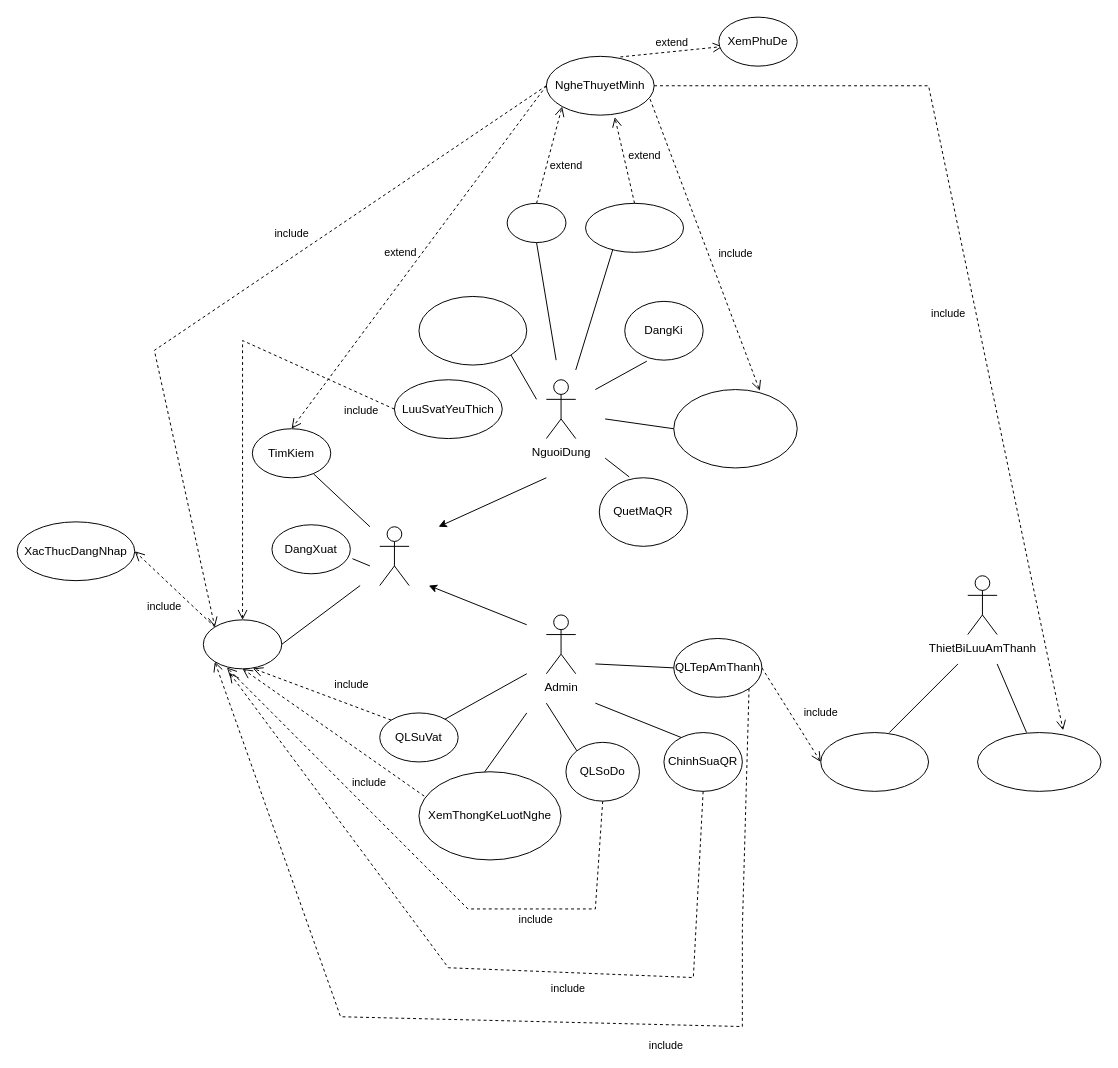
This 1118x1068 diagram has some shape labels left out. The shapes that lost their labels are listed below. From the top down, each one's centre as x and y in pixels, then its label:
At pixel 536 222: "DocND".
At pixel 634 227: "XemHinhAnh".
At pixel 472 330: "XemHoSoBaoTang".
At pixel 735 428: "ChuyenDoiNgonNgu".
At pixel 394 556: "Nguoi".
At pixel 242 644: "DangNhap".
At pixel 874 761: "LuuTruTepAmThanh".
At pixel 1039 761: "PhatLuongDLAmThanh".
